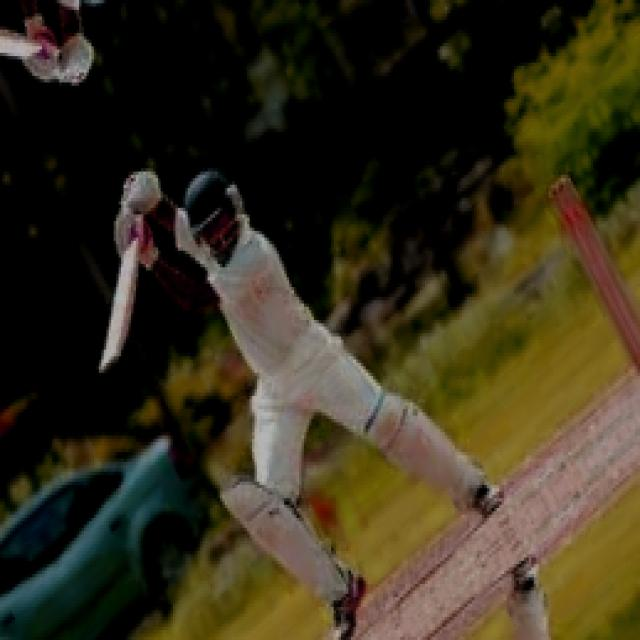toe: (93, 329, 124, 372)
